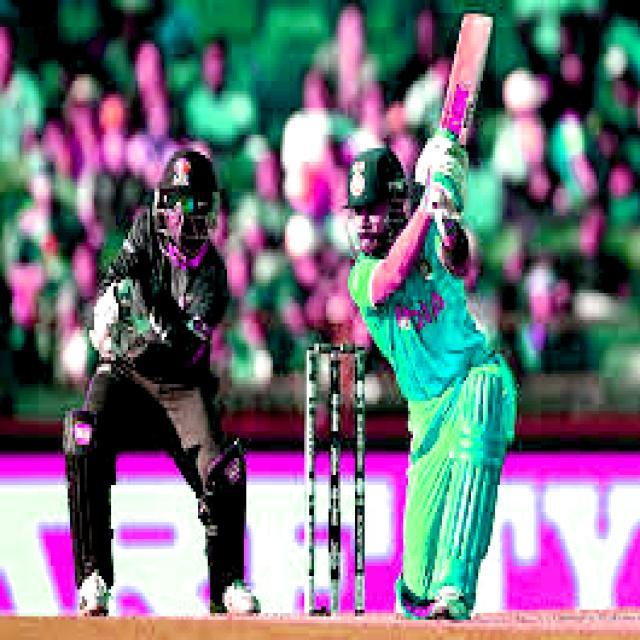bat: (429, 2, 493, 156)
